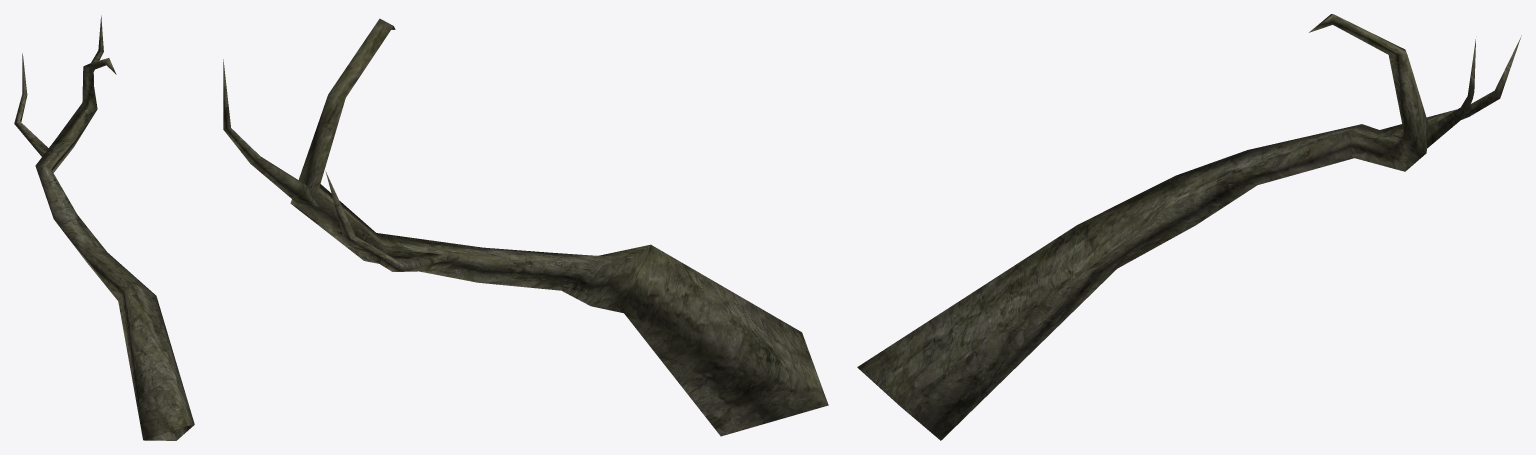
The model's file is TI_Old_Tree_Branch_08.fbx.
3 views of the same model, side by side, from view 1: azimuth 30°, elevation 25°; view 2: azimuth 150°, elevation 25°; view 3: azimuth 270°, elevation 25° (orthographic). The views are drawn at different scales.
Visible parts, largest first — view 1: TI_Old_Tree_Branch_08; view 2: TI_Old_Tree_Branch_08; view 3: TI_Old_Tree_Branch_08.
Boxes of the visible parts, bbox=[...] form: TI_Old_Tree_Branch_08: bbox=[14, 15, 194, 440]; TI_Old_Tree_Branch_08: bbox=[223, 18, 828, 436]; TI_Old_Tree_Branch_08: bbox=[857, 14, 1521, 440].
Size of the model in its own units: 2.33 by 4.87 by 6.18.
